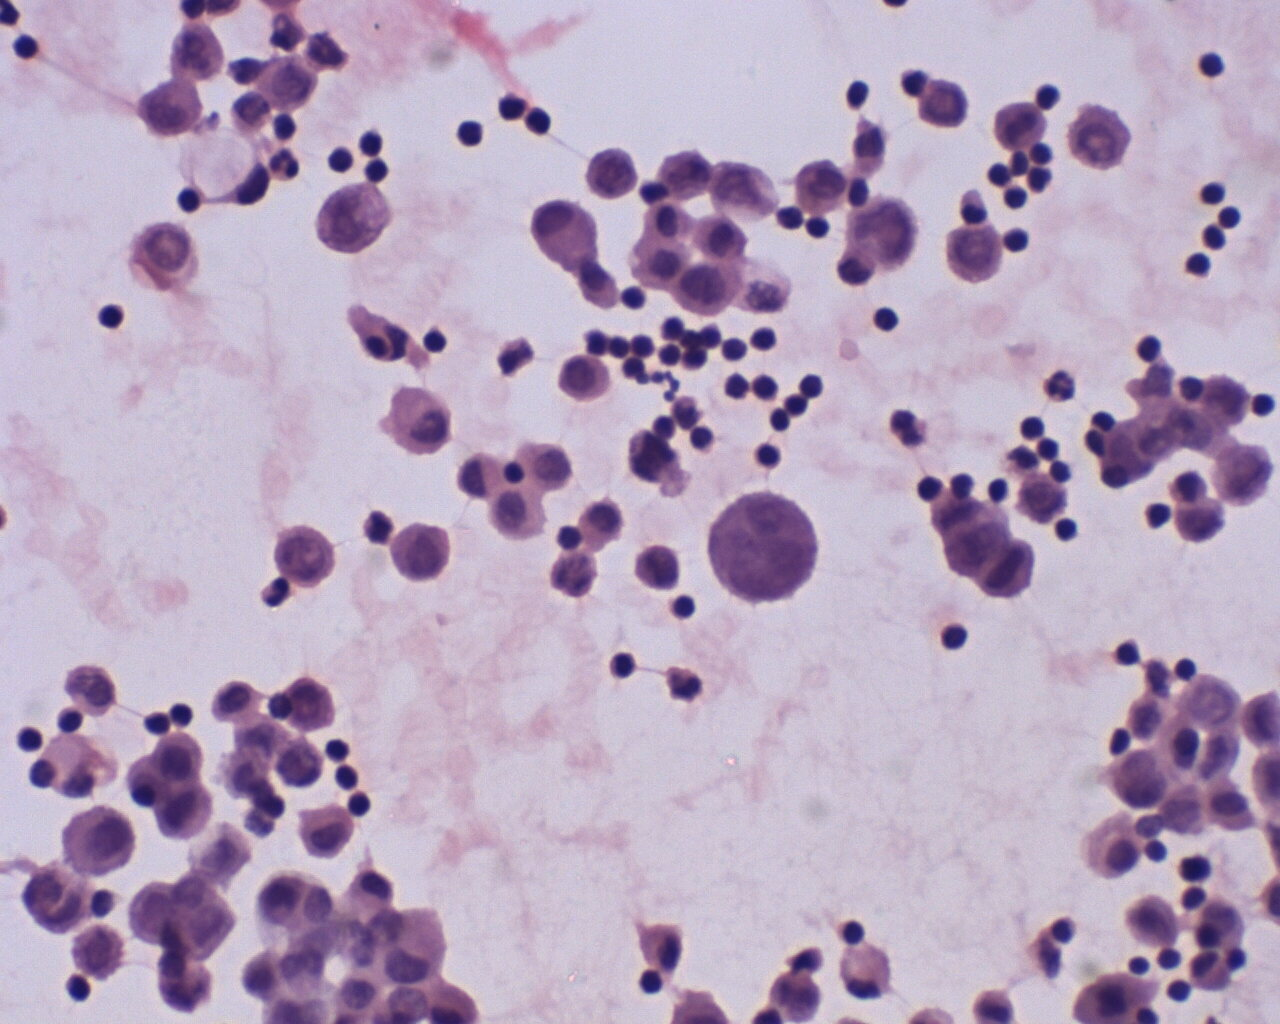ab: (707, 486, 823, 611), (309, 177, 391, 253), (845, 197, 923, 272), (1061, 100, 1133, 171), (273, 522, 338, 594), (942, 223, 1005, 285), (584, 143, 643, 203)
lymph: (1191, 47, 1231, 84), (93, 297, 127, 338), (603, 648, 638, 686), (936, 616, 972, 653), (452, 114, 487, 147), (751, 367, 779, 408), (7, 29, 41, 63), (1198, 178, 1230, 211), (1048, 516, 1084, 544), (872, 301, 903, 333), (1184, 250, 1212, 280)
meso: (1076, 807, 1144, 880), (485, 483, 548, 544), (626, 234, 690, 293), (296, 805, 359, 862), (557, 352, 611, 405)
neutro: (1040, 365, 1081, 405), (267, 145, 305, 184)
